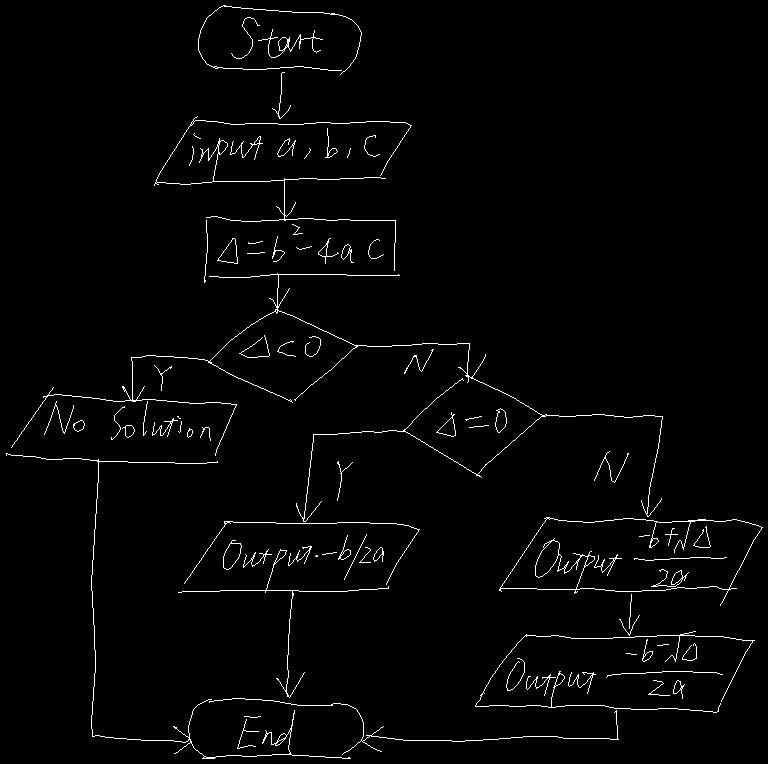arrow: (91, 459, 191, 753), (541, 414, 662, 516), (362, 710, 618, 751), (296, 430, 404, 521), (356, 343, 485, 382), (122, 355, 211, 401), (276, 590, 304, 697), (272, 72, 290, 118), (619, 594, 639, 635), (276, 178, 295, 220), (269, 273, 289, 311)
data: (499, 517, 762, 605), (475, 634, 754, 712), (154, 116, 411, 185), (6, 387, 236, 463), (178, 521, 419, 592)
decision: (402, 375, 542, 477), (208, 309, 357, 402)
process: (204, 216, 399, 282)
terminator: (198, 5, 361, 74), (188, 698, 363, 758)
text: (506, 631, 722, 707), (535, 519, 726, 593), (189, 128, 379, 181), (223, 534, 383, 592), (217, 224, 383, 263), (44, 401, 210, 440), (231, 17, 322, 58), (237, 710, 294, 753), (436, 408, 506, 436), (239, 335, 320, 357), (594, 451, 628, 482), (404, 349, 433, 373), (337, 461, 352, 500), (154, 365, 171, 390)
